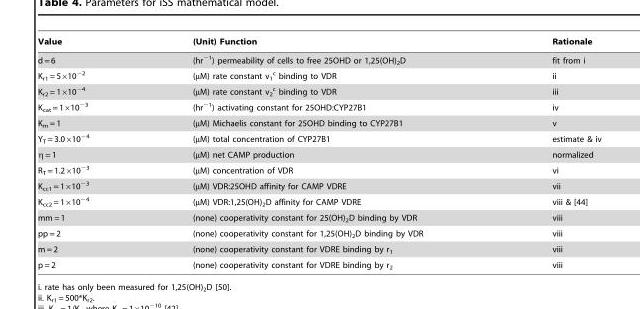table: (37, 36, 600, 269)
table column: (140, 36, 487, 269), (487, 36, 600, 269), (37, 36, 140, 269)
table column header: (37, 36, 600, 49)
table row: (37, 49, 600, 67), (37, 193, 600, 210), (37, 67, 600, 83), (37, 98, 600, 114), (37, 114, 600, 130), (37, 130, 600, 146), (37, 161, 600, 177), (37, 177, 600, 193), (37, 225, 600, 241), (37, 241, 600, 257), (37, 83, 600, 98), (37, 146, 600, 161), (37, 210, 600, 225), (37, 36, 600, 49), (37, 257, 600, 269)
